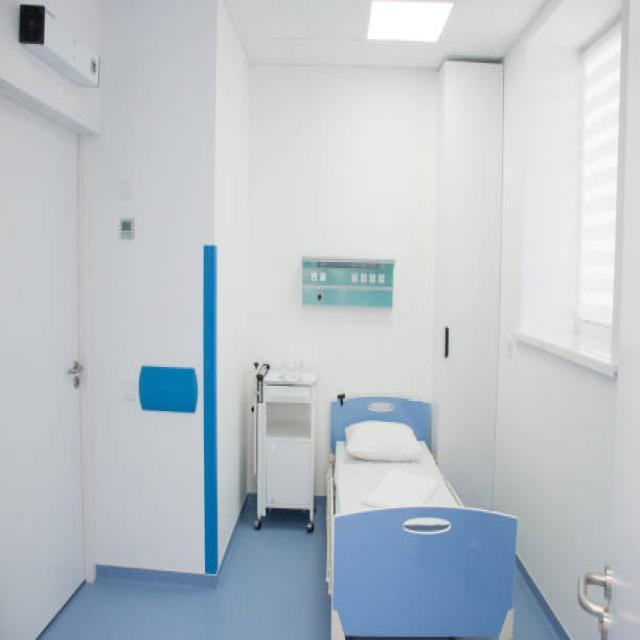bed: (325, 394, 518, 638)
